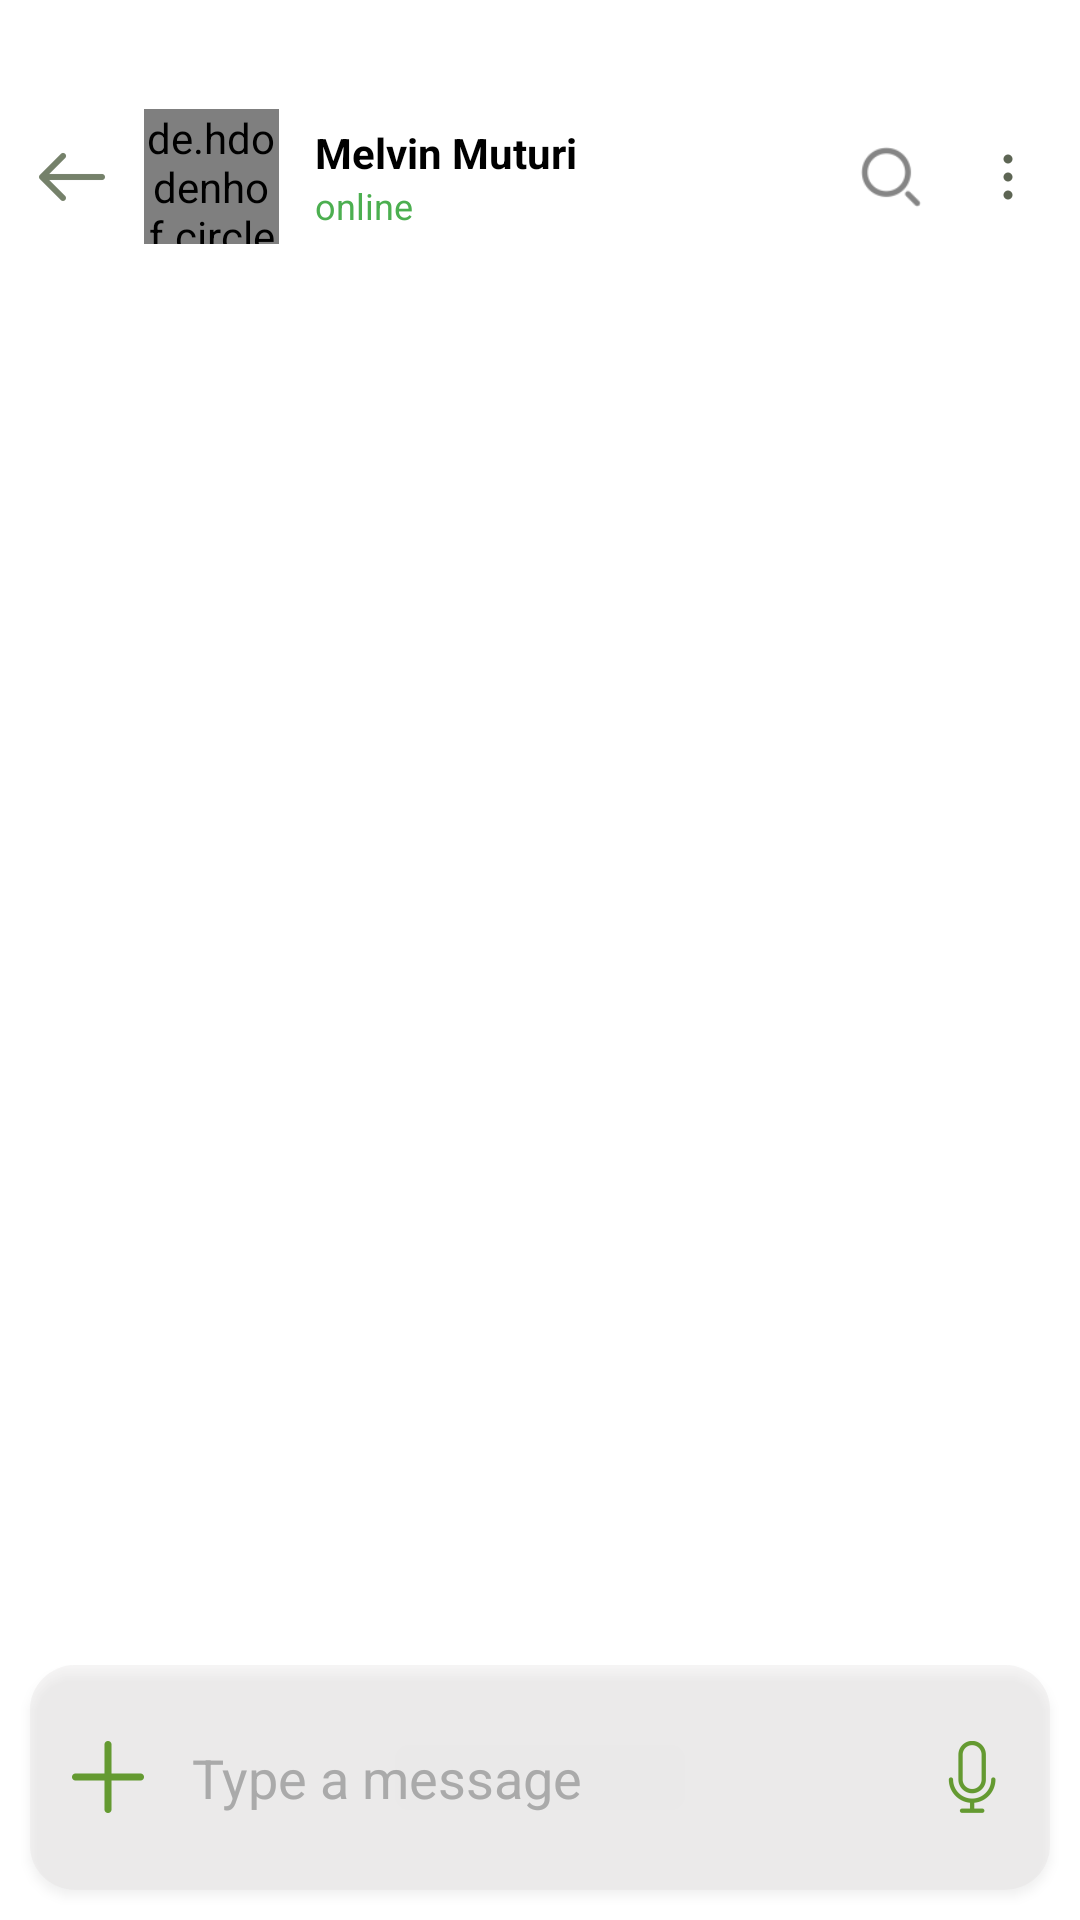

Named icons in this screenshot (1080*1920) and their centers, point (x, y):
add: point (108, 1777)
back arrow: point (72, 177)
microphone: point (972, 1777)
search: point (890, 176)
